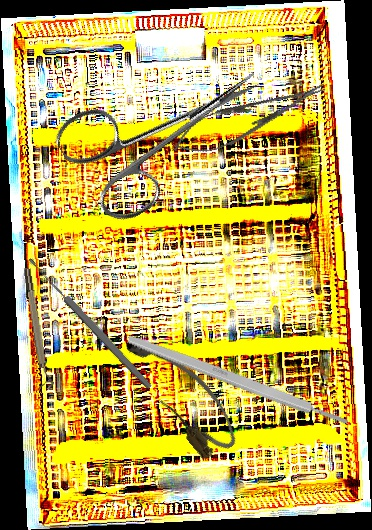Cannula: (116, 319, 247, 466)
Fixation Ring: (21, 266, 55, 392)
Iris Scissors: (49, 25, 286, 233)
Needle Holder: (166, 69, 333, 167)
Scalpel Handle: (126, 332, 350, 430)
Surgical Spoon: (26, 255, 154, 391)
